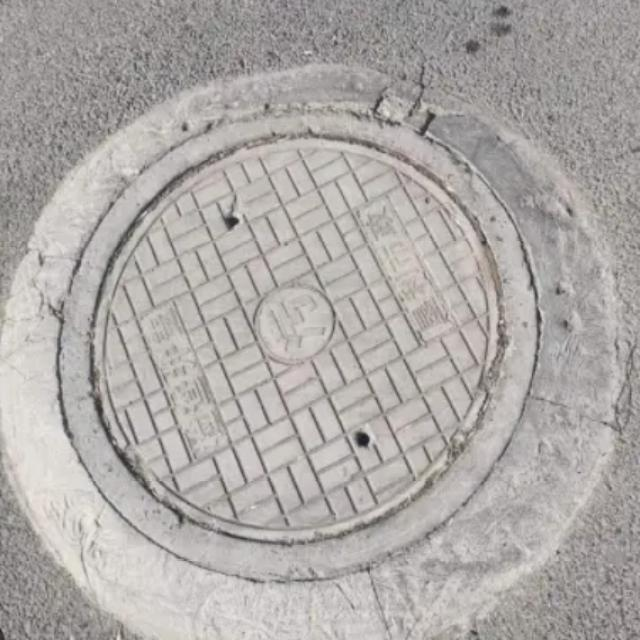manhole: (60, 104, 538, 580)
